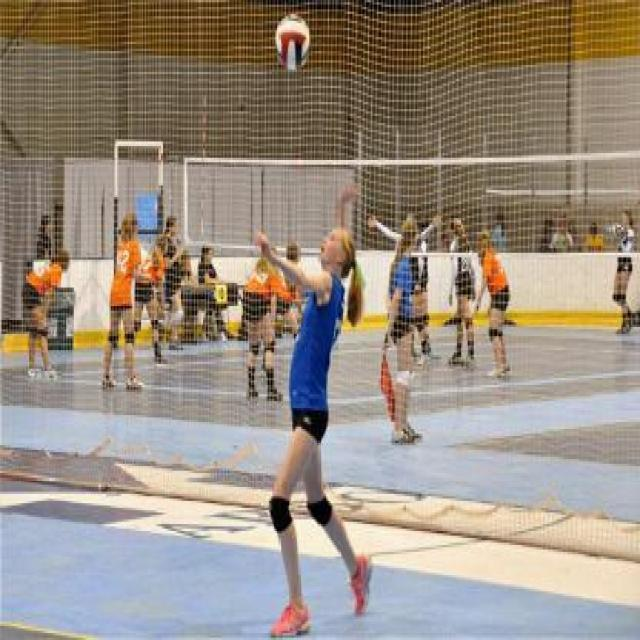volleyball: (275, 14, 310, 70)
